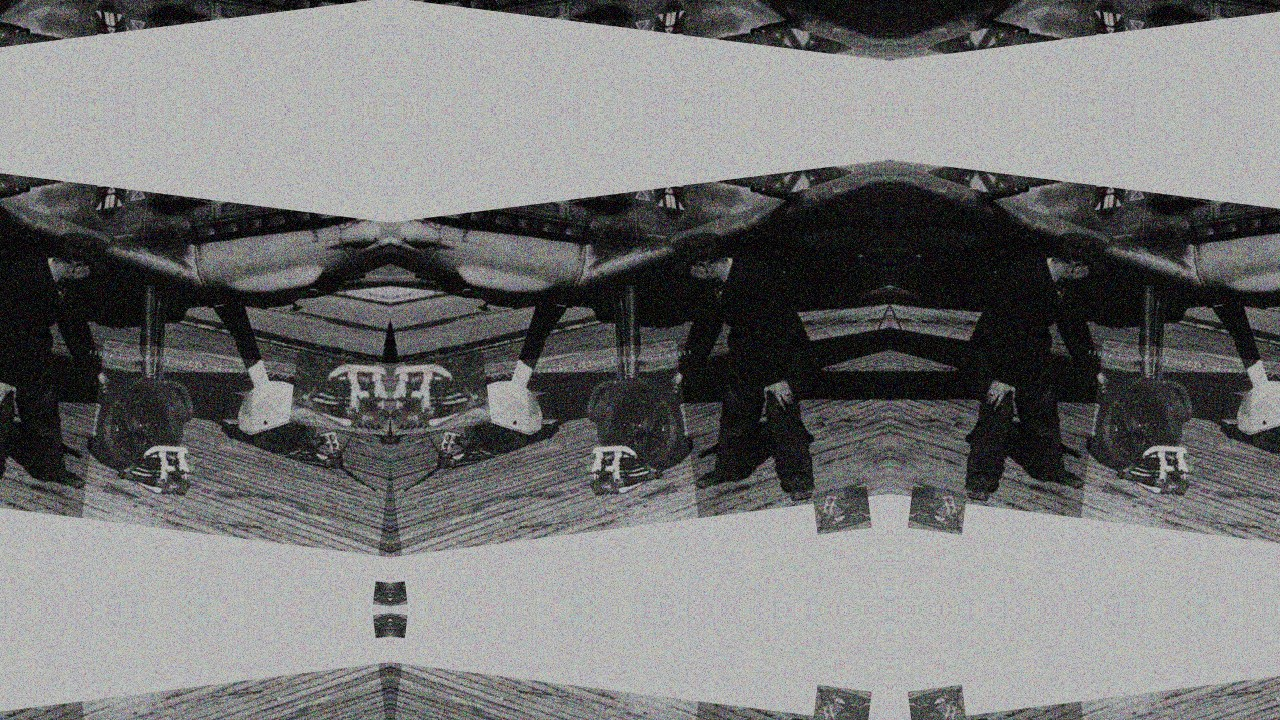chock: (288, 352, 390, 436), (390, 352, 492, 436), (113, 436, 195, 501), (585, 436, 667, 501), (1113, 436, 1195, 501), (287, 422, 350, 474), (430, 422, 493, 474), (812, 486, 872, 535), (908, 486, 968, 535), (812, 685, 872, 720), (908, 685, 968, 720), (372, 581, 390, 608), (390, 581, 408, 608), (372, 612, 390, 639), (390, 612, 408, 639)
wheel: (86, 369, 200, 479), (580, 369, 694, 479), (1086, 369, 1200, 479), (233, 371, 326, 457), (454, 371, 547, 457), (1233, 371, 1280, 457)
